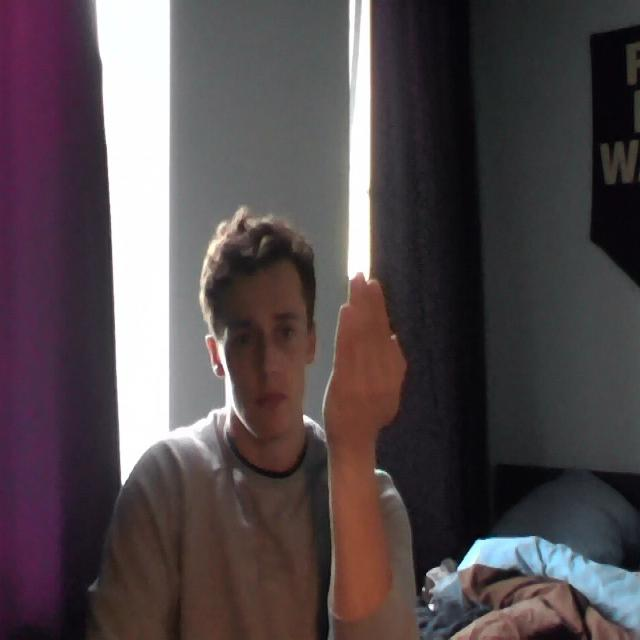forward: (316, 263, 412, 452)
